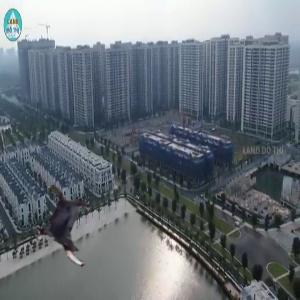drone: (24, 181, 110, 267)
